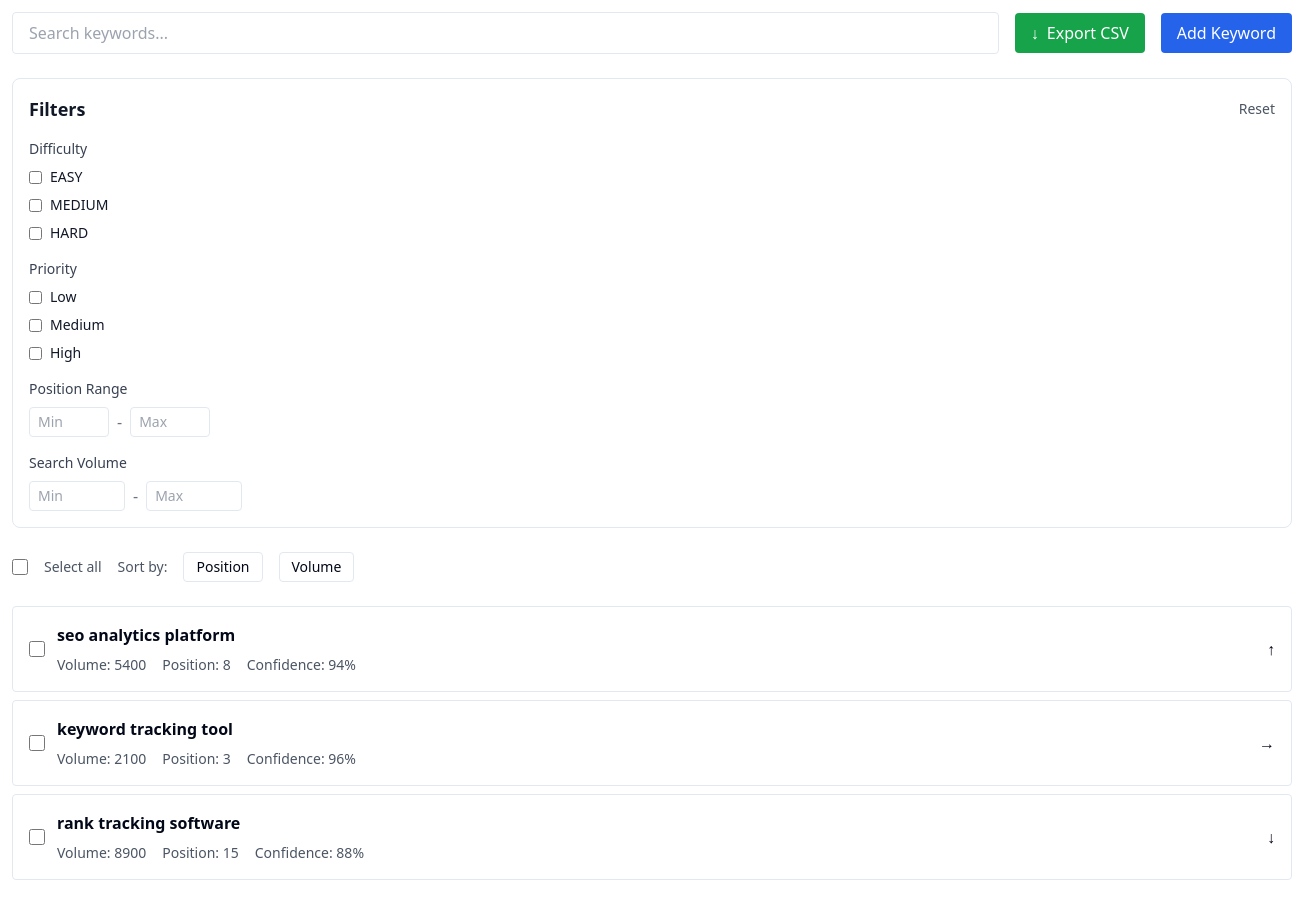
Test: KeywordDashboard Component › Bulk Actions › should select individual keyword on checkbox click
Step 1. Click the checkbox with test id "checkbox-kw1" → (37, 649), box [29, 641, 45, 657]
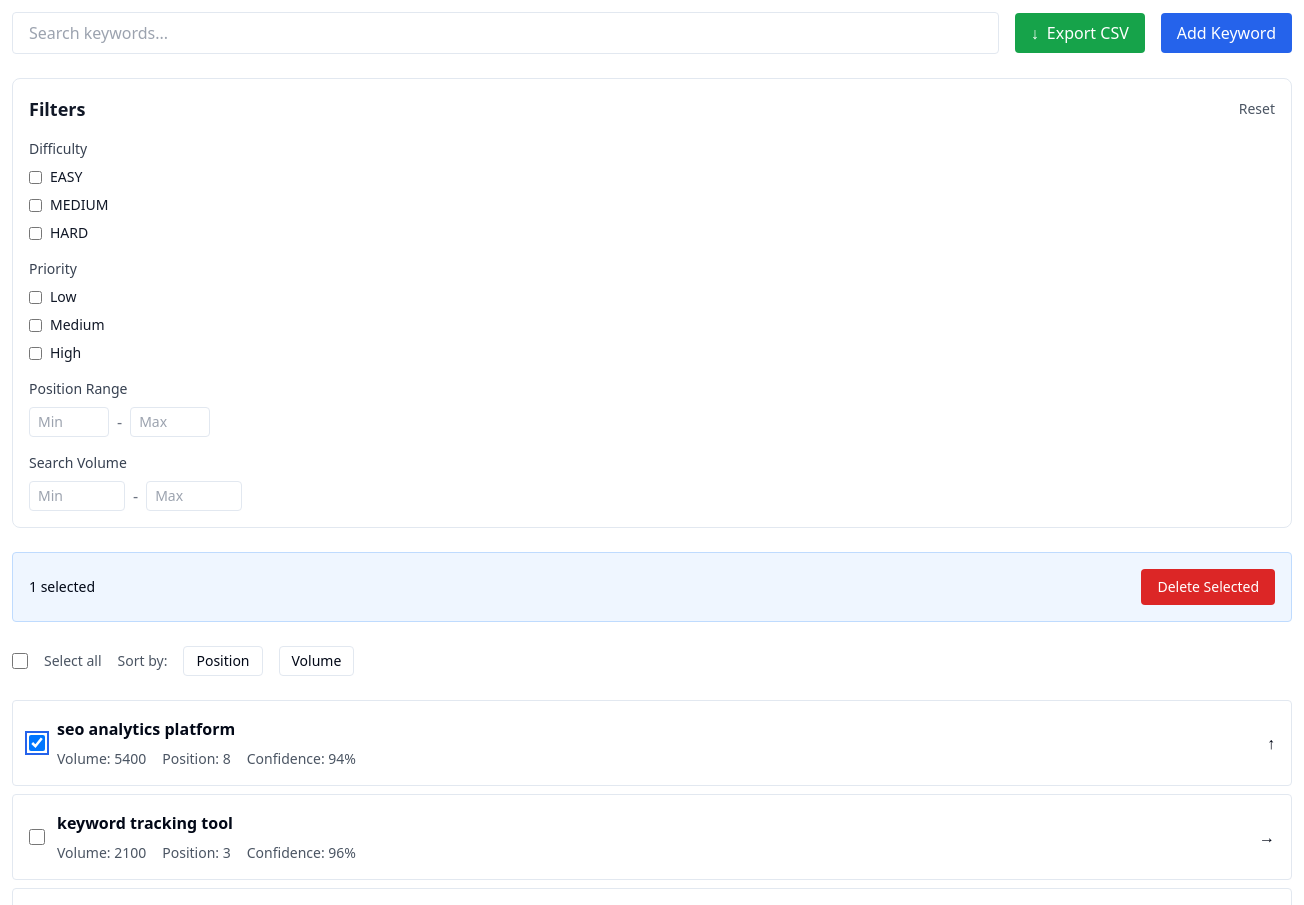
Expected: the checkbox with test id "checkbox-kw1" is checked, [29, 735, 45, 751]
Expected: the text with test id "selected-count" reads "1 selected", [29, 577, 95, 597]
